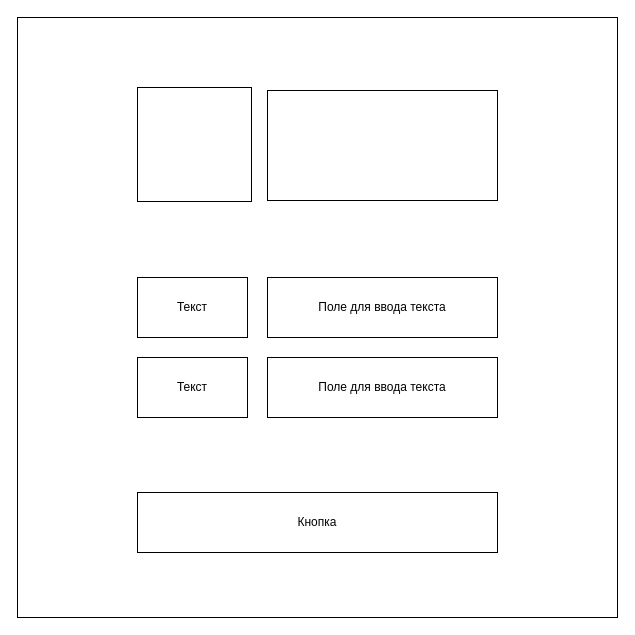
This 635x635 diagram has some shape labels left out. The shapes that lost their labels are listed below. From the top down, each one's centre as x and y in pixels, then its label:
At point (194, 144): "Логотип".
At point (382, 145): "Заголовок".
